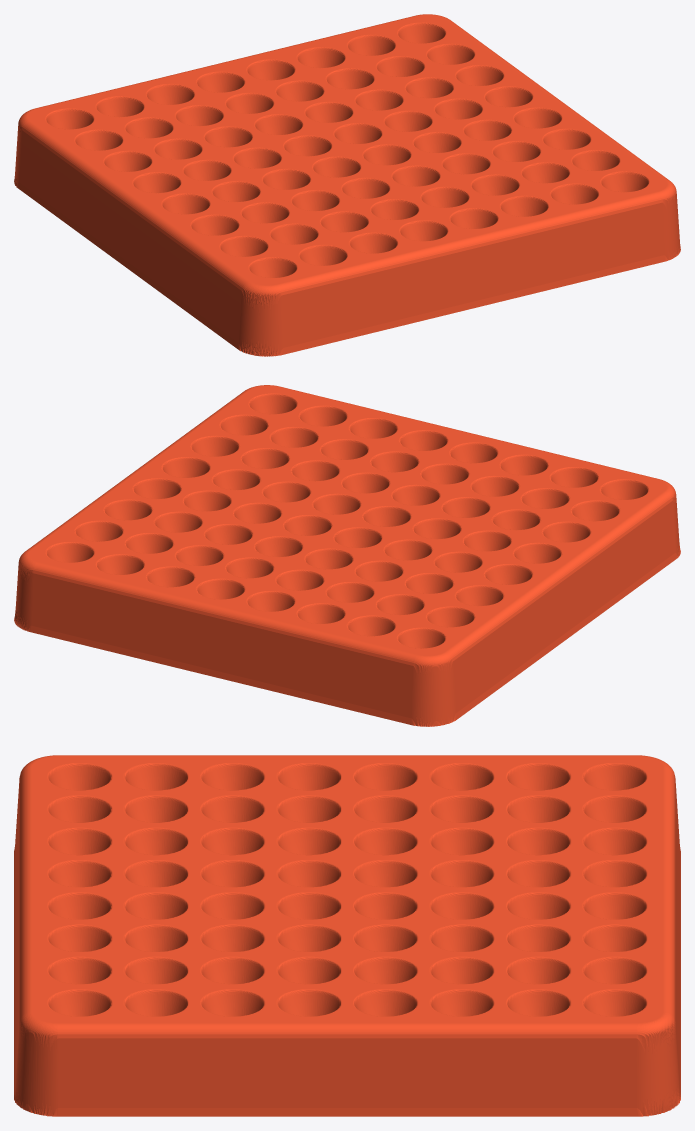
File: mold.glb
3 views of the same model, one above another, from view 1: azimuth 30°, elevation 25°; view 2: azimuth 150°, elevation 25°; view 3: azimuth 270°, elevation 25° (orthographic). The views are drawn at different scales.
Parts seen in each view (by area): view 1: geometry_0; view 2: geometry_0; view 3: geometry_0.
Boxes of the visible parts, x1,y1,x2,y2 form: geometry_0: [14, 14, 680, 356]; geometry_0: [14, 385, 680, 726]; geometry_0: [14, 755, 680, 1116].
Bounding box in the file's own units: 0.1355 × 0.0193 × 0.1355.
